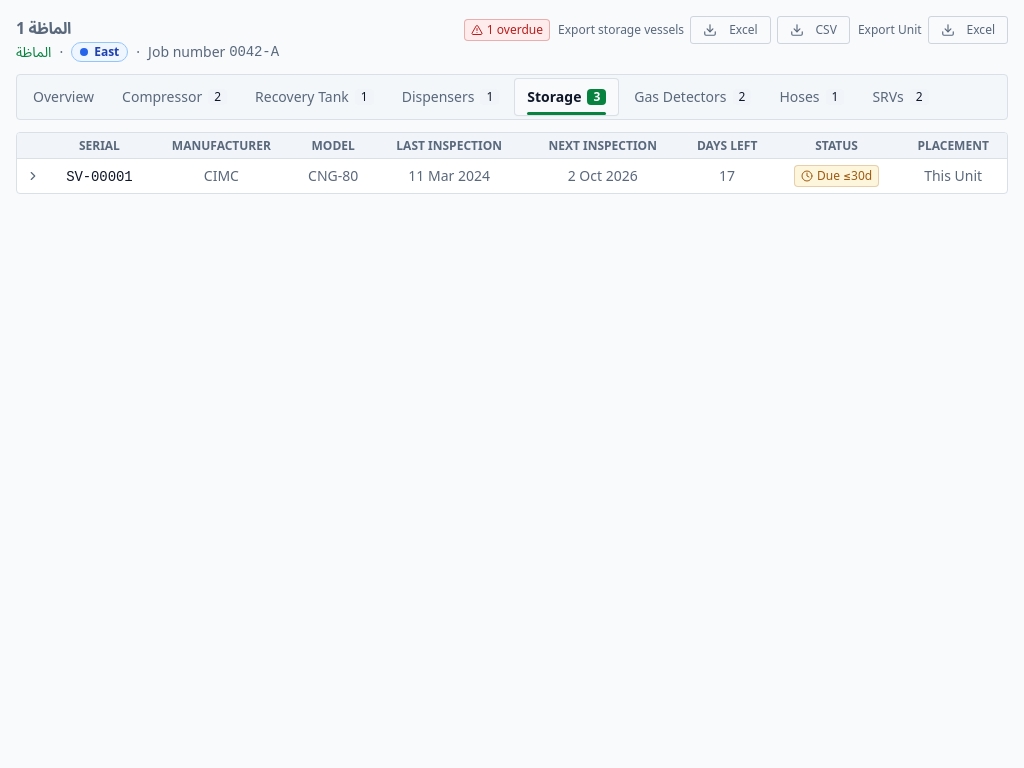
Tab states › expands a row to the full technical record without leaving the Unit
The image size is (1024, 768).
Click the button named "show the full technical record" at coordinates (33, 176), box [23,166,43,186]
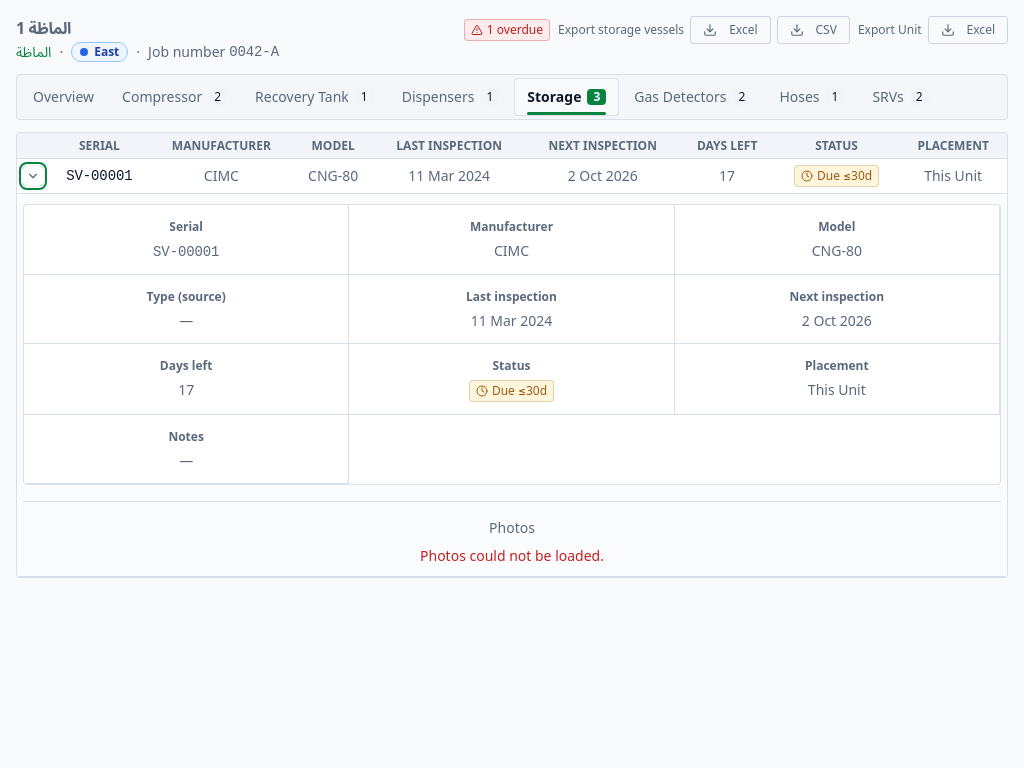
expect the heading "الماظة 1" is shown: met, box [16,17,71,39]
expect the button named "show the full technical record" is expanded: met, box [23,166,43,186]
